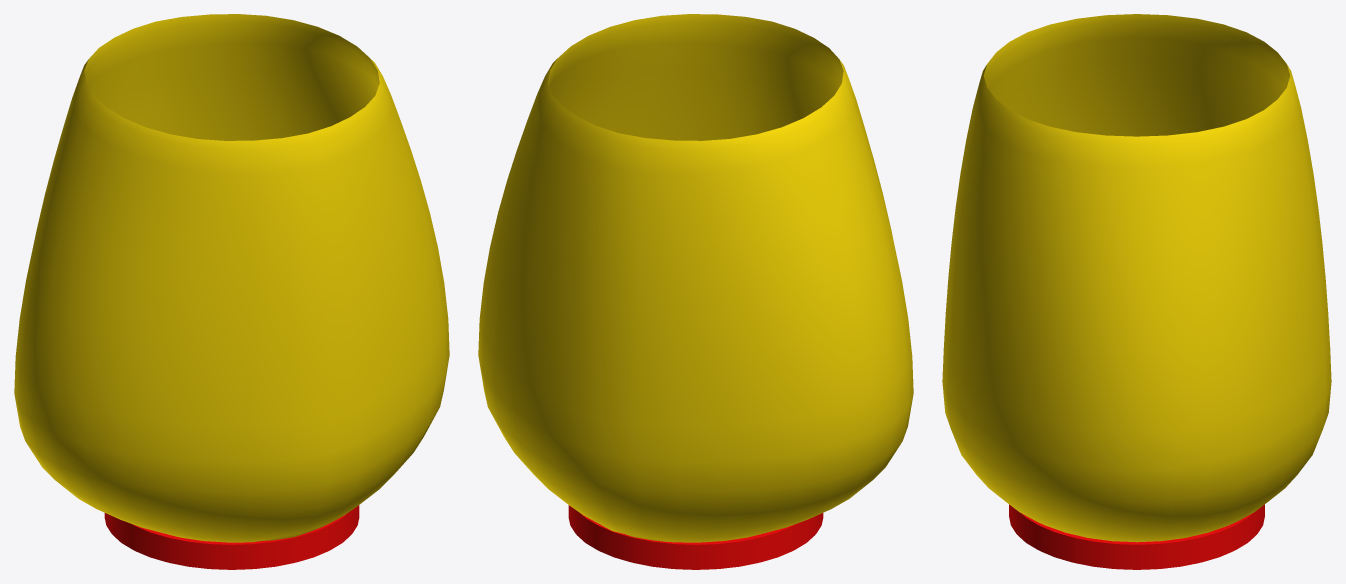
Rendered from BedsideLamp Variant 2.fbx.
3 views of the same model, side by side, from view 1: azimuth 30°, elevation 25°; view 2: azimuth 150°, elevation 25°; view 3: azimuth 270°, elevation 25° (orthographic).
Visible parts, largest first — view 1: Object001; view 2: Object001; view 3: Object001.
Part boxes in pixels (x1,y1,x2,y2): Object001: (14, 14, 449, 569); Object001: (478, 14, 913, 569); Object001: (942, 14, 1331, 569).
Size of the model in its own units: 4.94 by 5.21 by 4.17.
